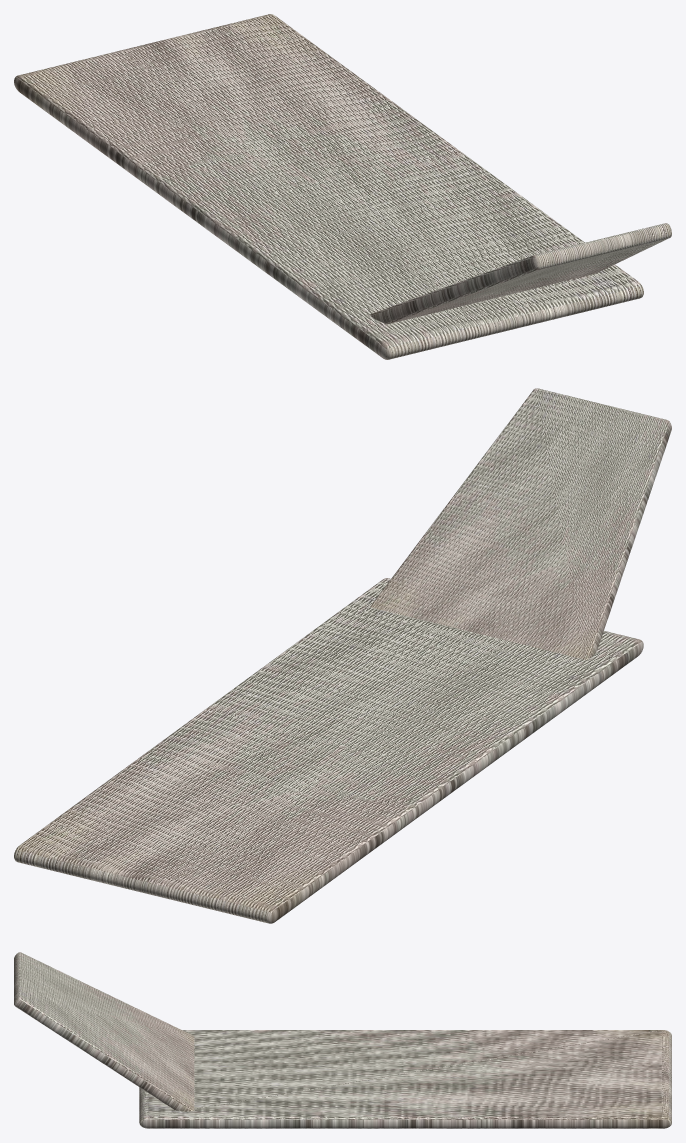
File: cama_cama.obj
3 views of the same model, one above another, from view 1: azimuth 30°, elevation 25°; view 2: azimuth 150°, elevation 25°; view 3: azimuth 270°, elevation 25° (orthographic). The views are drawn at different scales.
Visible parts, largest first — view 1: Plane_Material.005, Plane.002_Material.007; view 2: Plane_Material.005, Plane.002_Material.007; view 3: Plane_Material.005, Plane.002_Material.007.
Part boxes in pixels (x1,y1,x2,y2): Plane_Material.005: (14, 14, 643, 359); Plane.002_Material.007: (370, 223, 671, 324); Plane_Material.005: (14, 578, 643, 923); Plane.002_Material.007: (370, 388, 671, 659); Plane_Material.005: (139, 1030, 671, 1128); Plane.002_Material.007: (14, 952, 194, 1111).
Bounding box in the file's own units: 1.4 × 0.7985 × 4.32.
